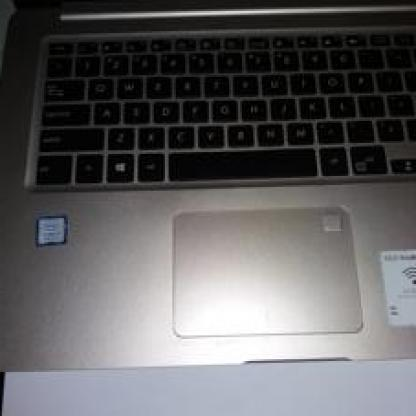keyboard: (28, 18, 414, 253)
